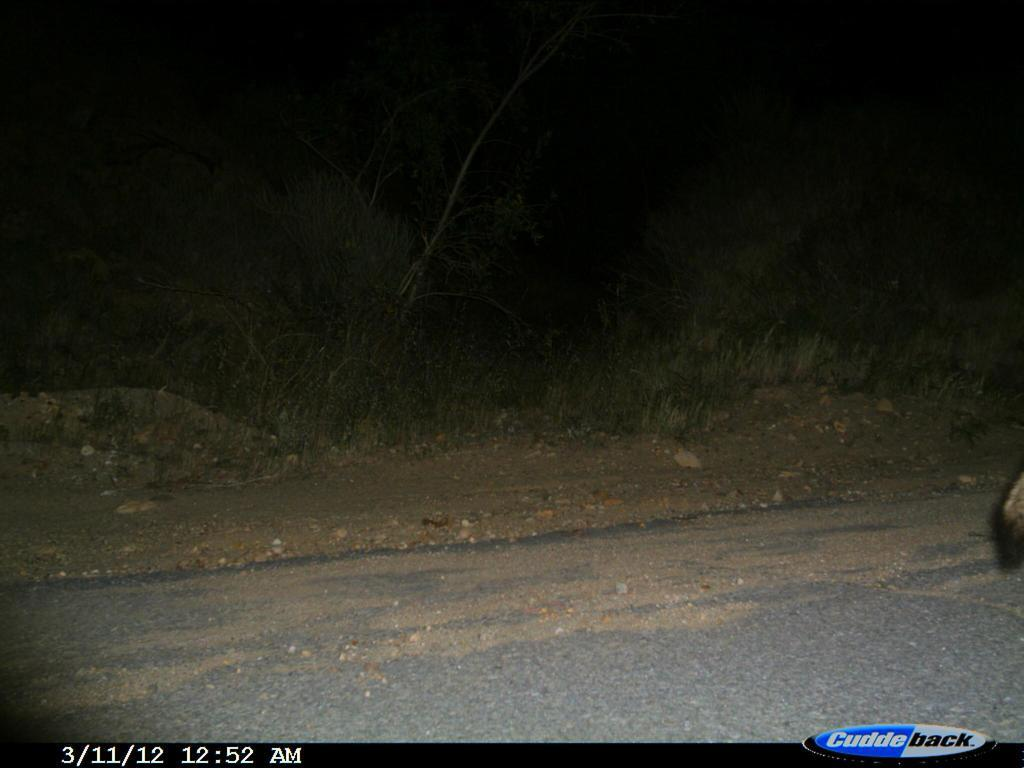skunk: (978, 424, 1024, 592)
